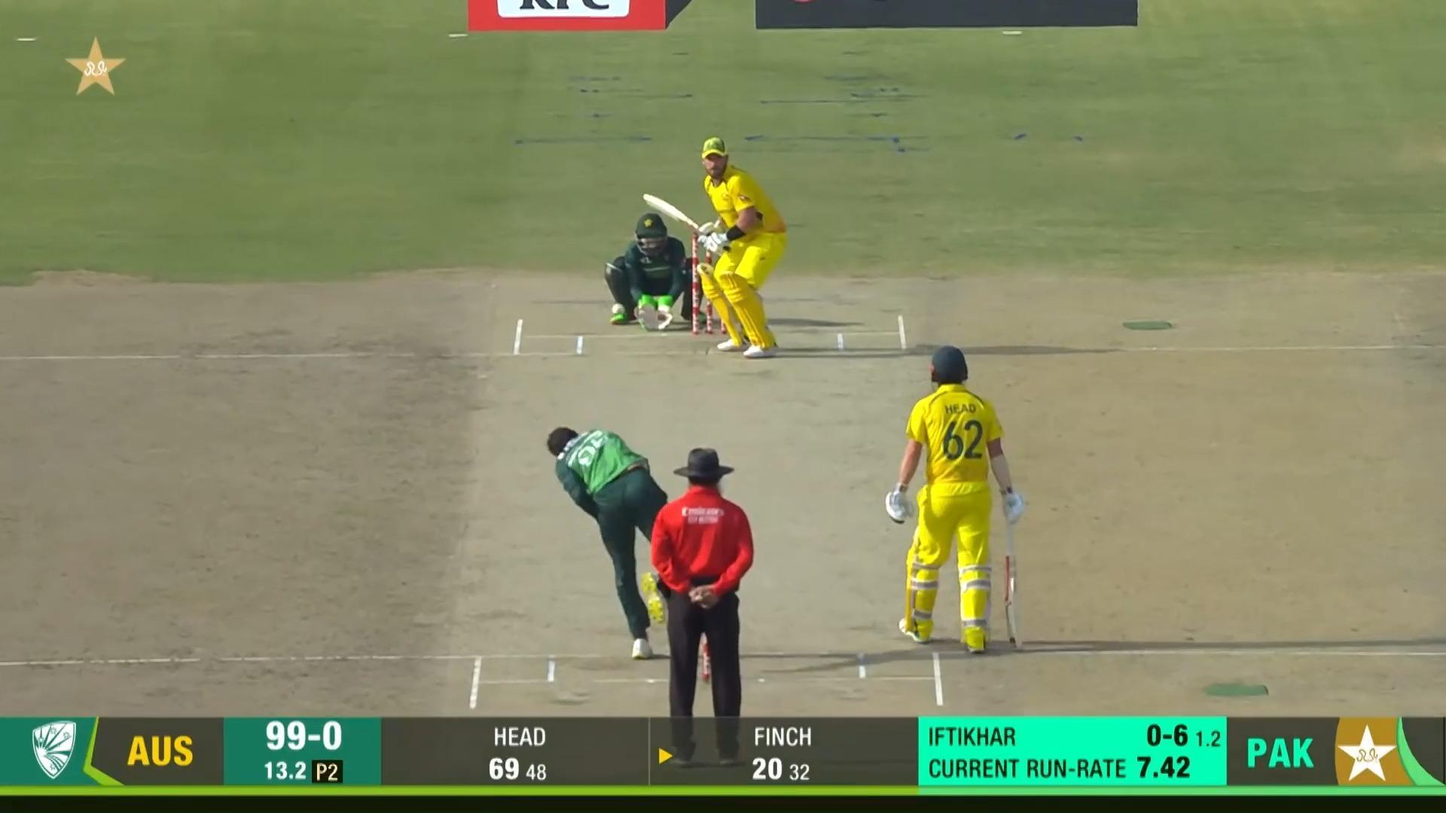BM 1: (643, 136, 789, 358)
BO: (547, 425, 670, 661)
